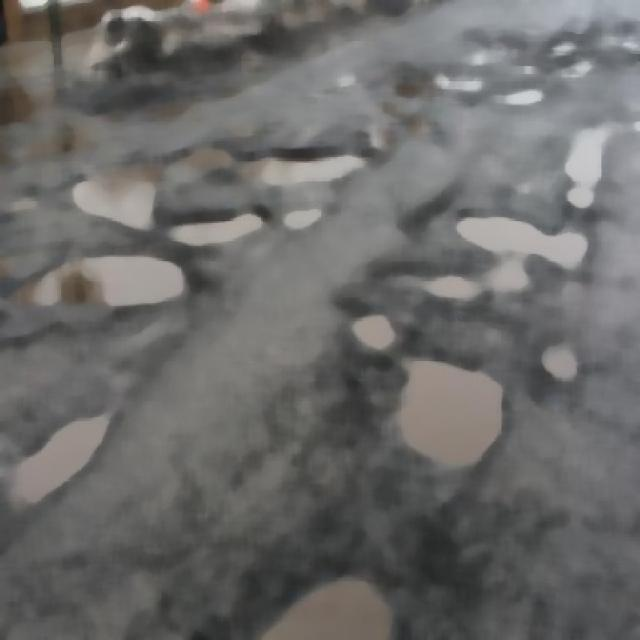Pothole: (41, 136, 376, 256), (342, 292, 513, 478), (180, 531, 398, 638), (0, 254, 209, 318), (445, 190, 590, 273)
